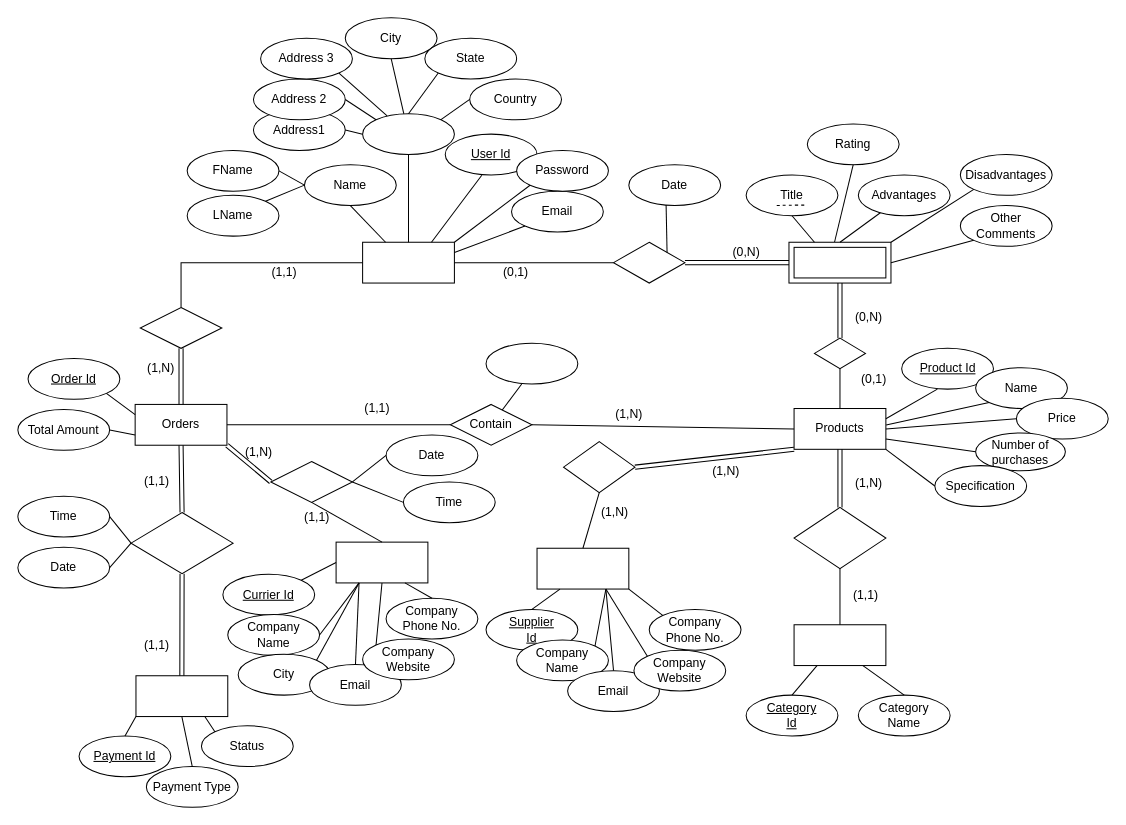
This 1126x825 diagram has some shape labels left out. Each missing label, with the centre of its shape:
Address: point 408,134
Categories: point 839,645
Category Type: point 839,537
Curriers: point 381,562
Customers: point 408,262
Delivery: point 311,481
Has: point 839,353
Payments: point 181,696
Place: point 180,327
Quantity: point 531,363
Reviews: point 839,262
Suppliers: point 582,568
Supply: point 599,467
Transactions: point 181,543
Writes: point 649,262
